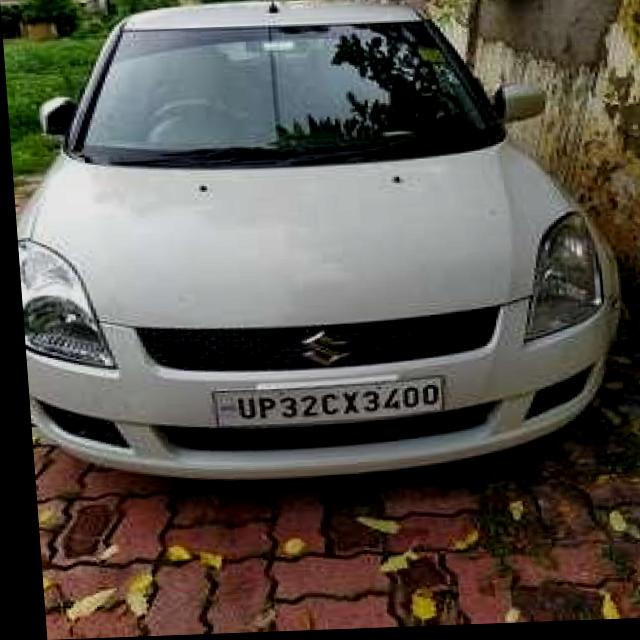0: (395, 390, 413, 412), (415, 388, 433, 408)
2: (295, 397, 312, 420)
3: (355, 394, 373, 415), (273, 399, 290, 421)
4: (378, 393, 395, 413)
c: (314, 395, 335, 419)
p: (252, 399, 270, 421)
u: (231, 398, 252, 423)
x: (335, 394, 353, 417)
